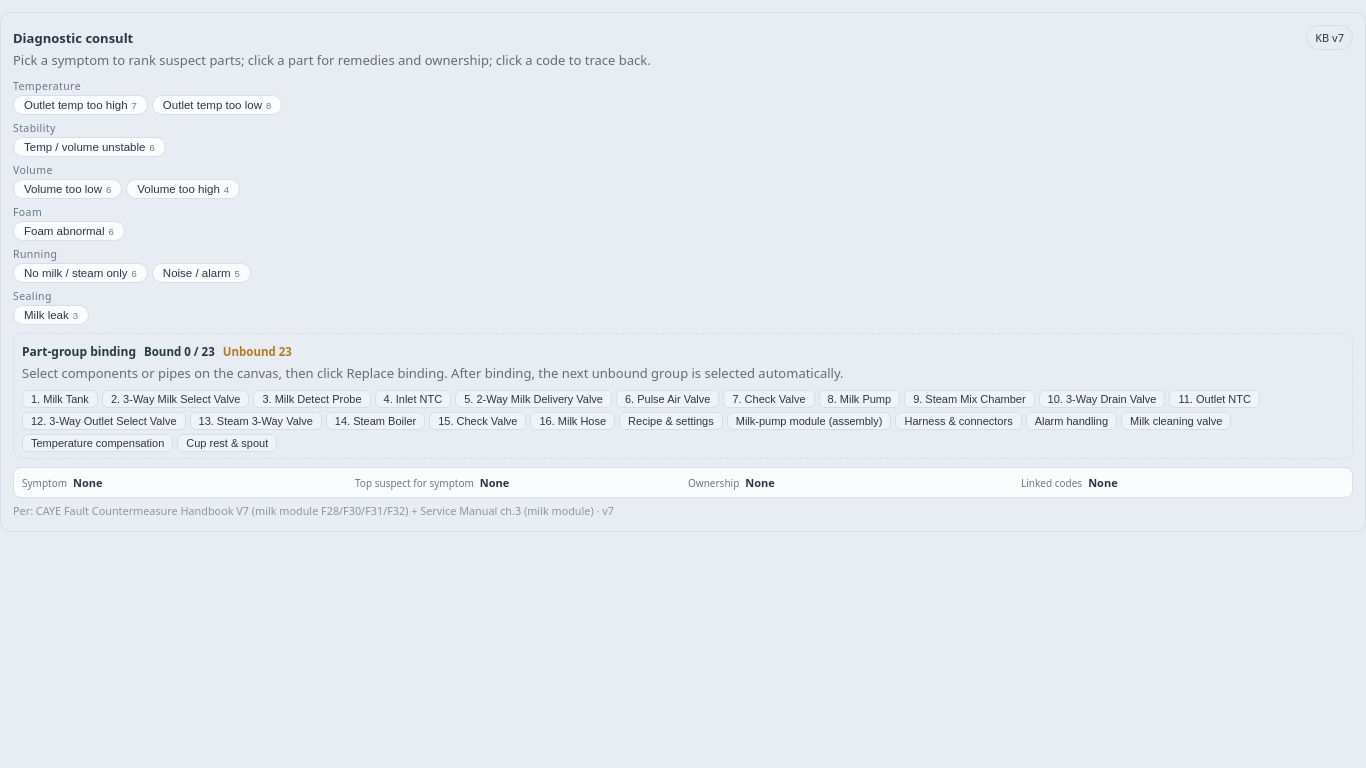
Scenario: KbConsultPanel › 点部件出现详情卡：排查要点 + 为什么/对策 + 绑定按钮
The image size is (1366, 768).
Click the button "No milk / steam only6" at (80, 273), box [13, 263, 148, 283]
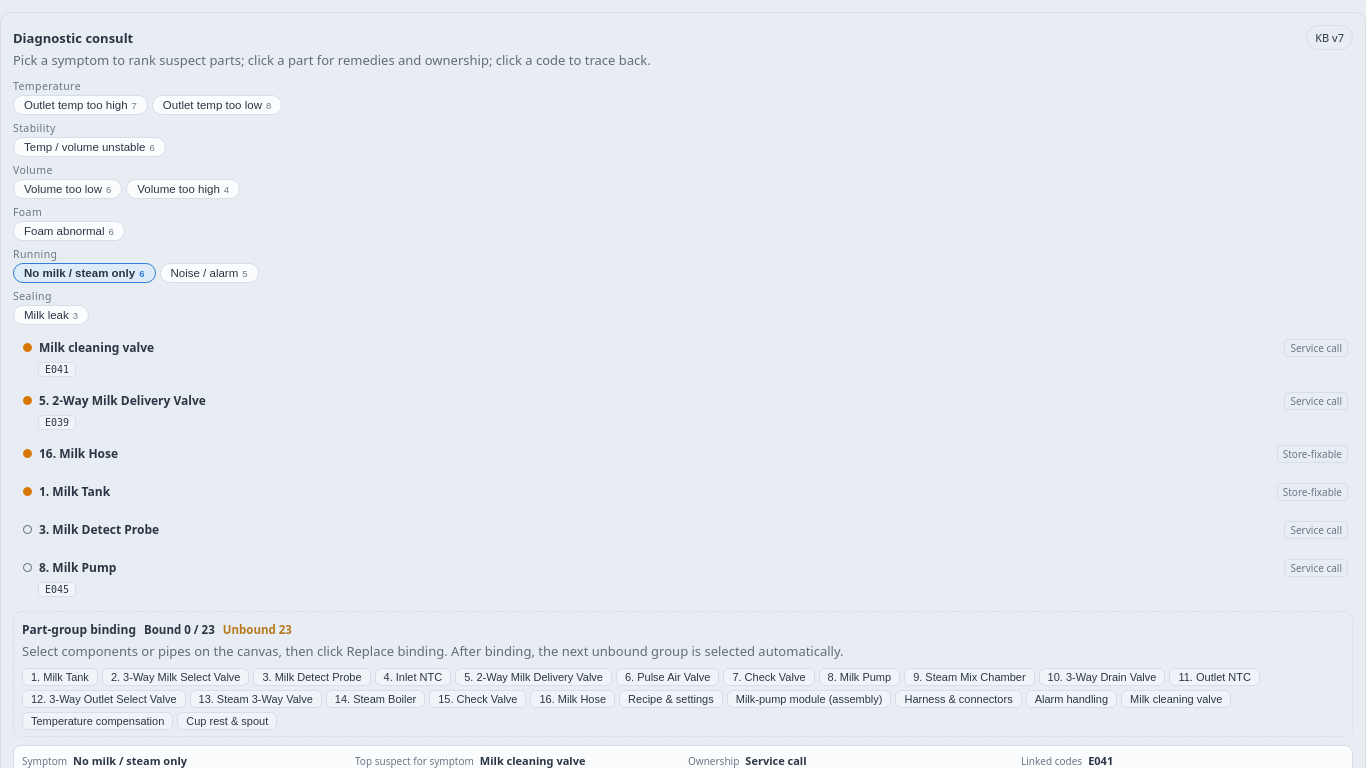
// 选一个带排查要点的实体件（奶箱），而非首个嫌疑（清洗阀组无 guide）
Click the button with class "kb-suspect-head" showing "● 1. Milk Tank Store-fixable" at (75, 492), box [20, 480, 1350, 504]
(page scrolled)
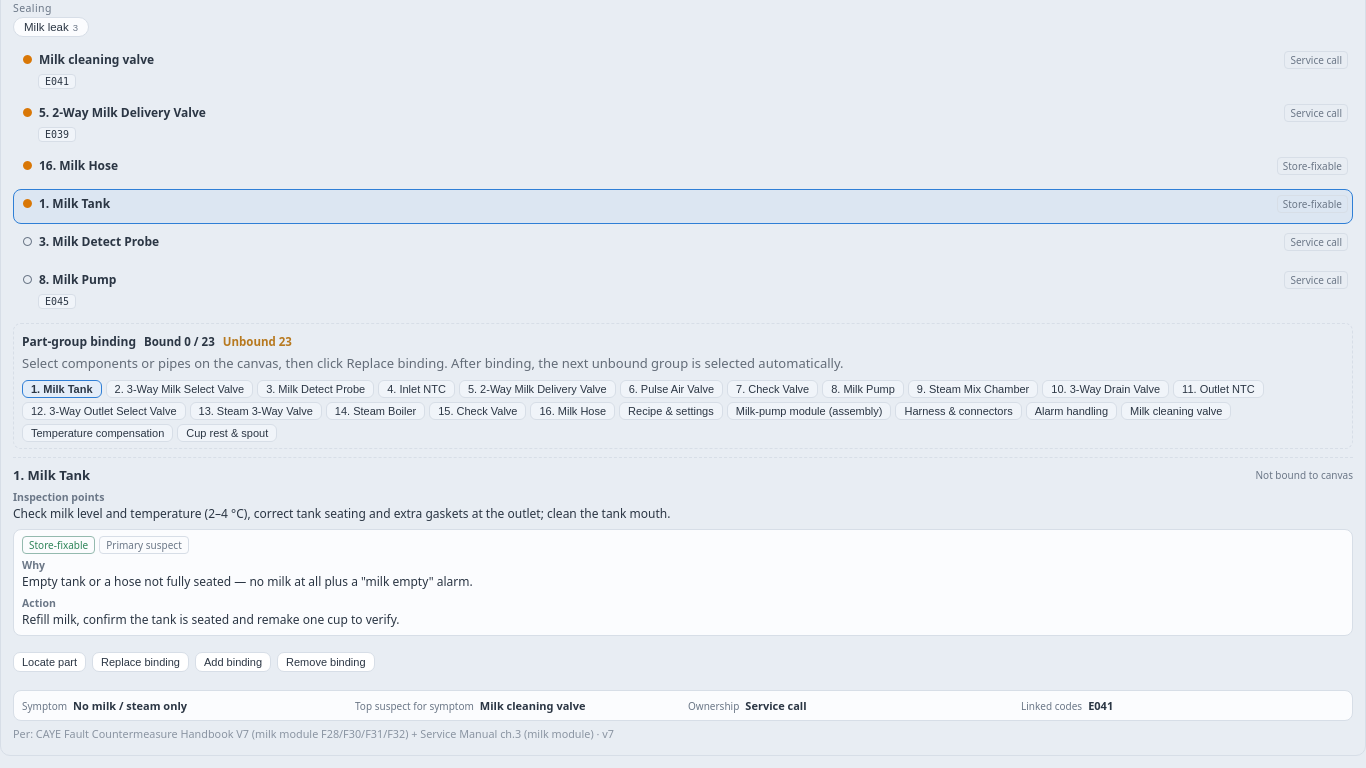
Expected: the element with test id "kb-detail" shows "Why", [22, 558, 45, 572]
Expected: the element with test id "kb-detail" shows "Action", [22, 596, 56, 610]
Expected: the element with test id "kb-detail" shows "Inspection points", [13, 490, 104, 504]
